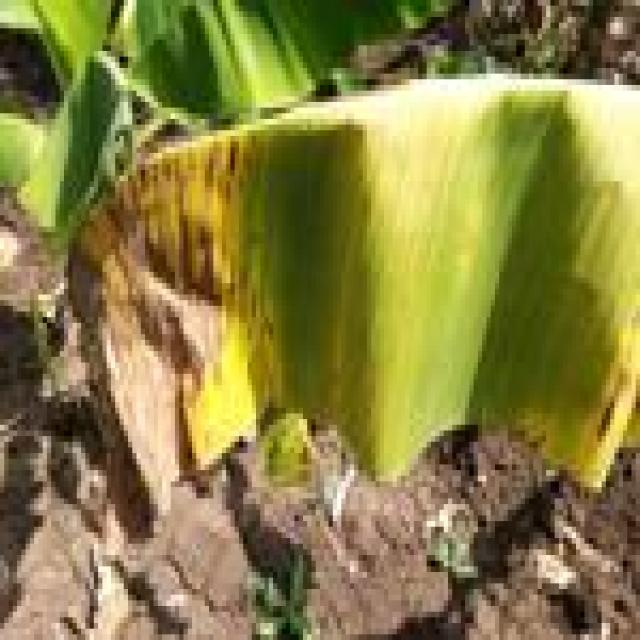Early_rust: (54, 122, 640, 476)
